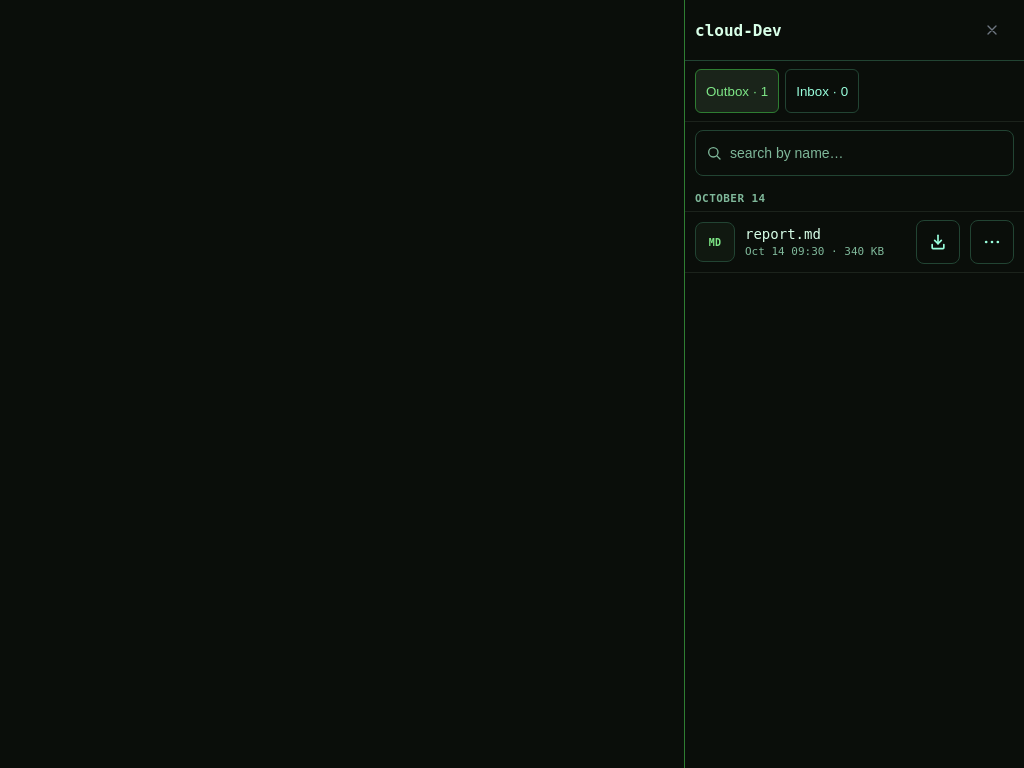
Scenario: FilesPanel foglio azioni (⋯) › la X chiude il foglio, la lista resta
Expected: the text "report.md" is shown, 745,226 -> 821,242
Click the button titled "file actions".
click(992, 242)  # box 970,220 -> 1014,264
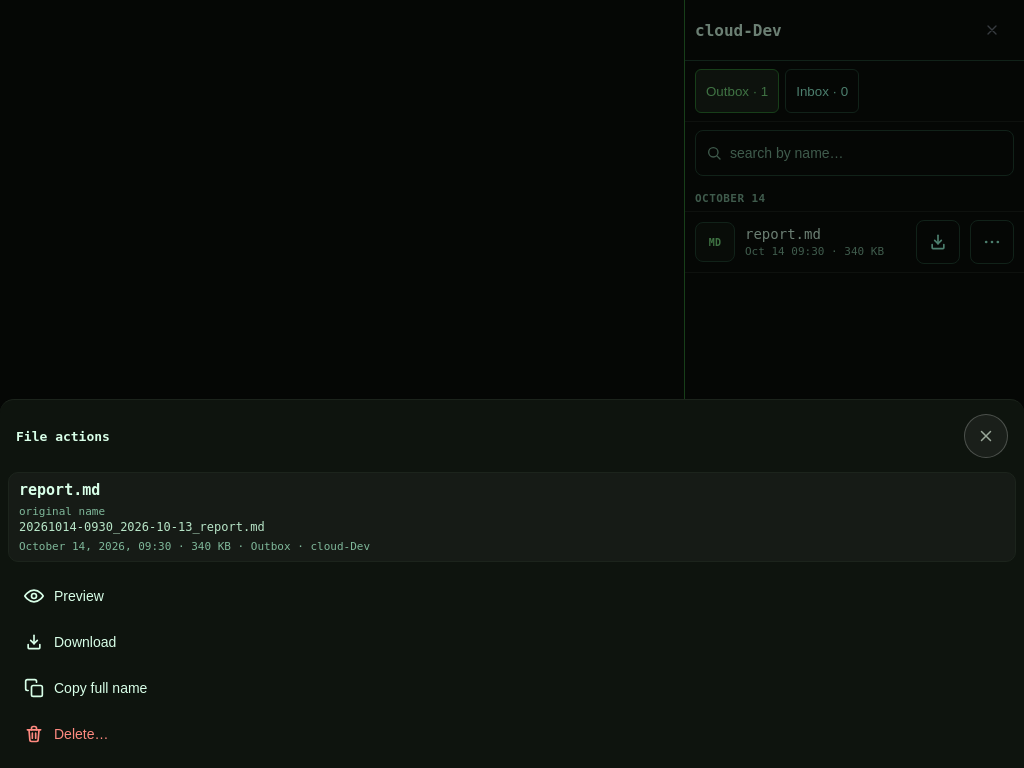
Now the element with test id "file-actions-sheet" is shown
Click the button named "close".
click(986, 436)  # box 964,414 -> 1008,458
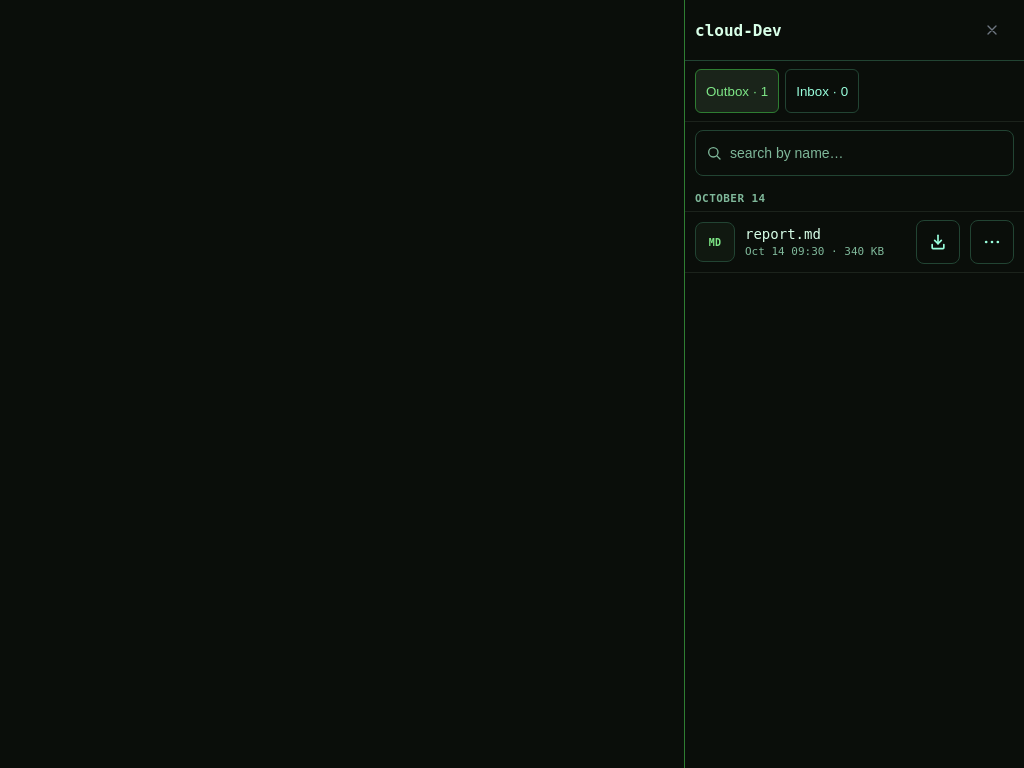
Expected: the text "report.md" is shown, 745,226 -> 821,242
Now the element with test id "file-actions-sheet" is gone
